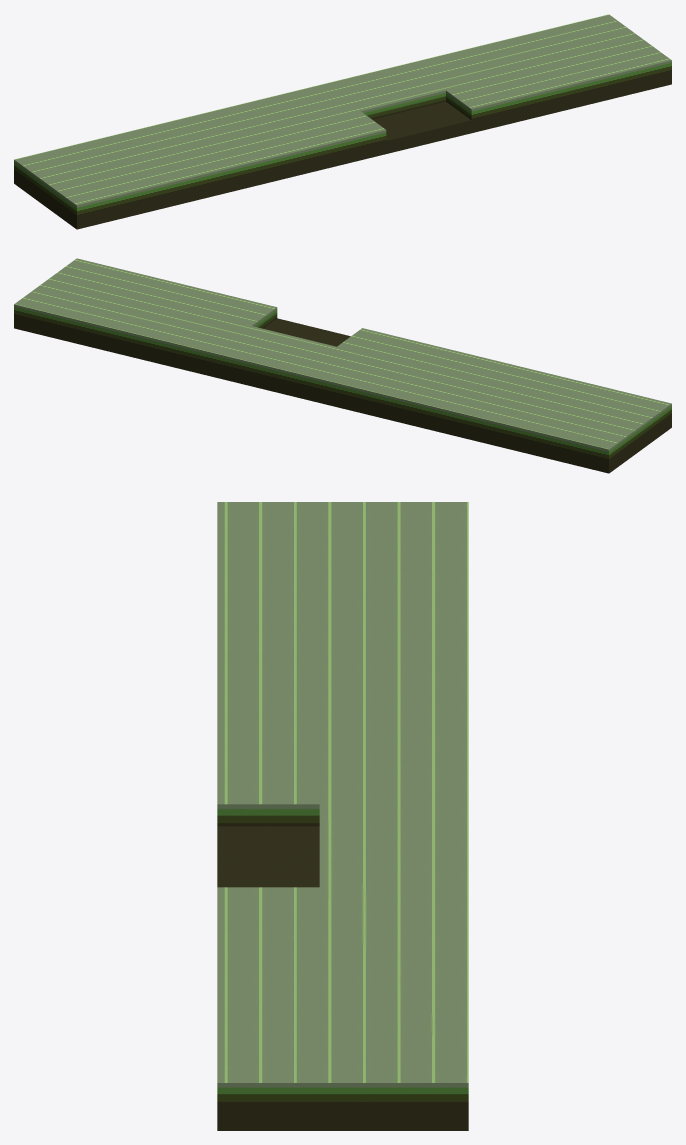
Rendered from puzzle002_floor_fbx.fbx.
The picture shows the model from 3 angles, top to bottom: view 1: azimuth 30°, elevation 25°; view 2: azimuth 150°, elevation 25°; view 3: azimuth 270°, elevation 25°; orthographic projection. The views are drawn at different scales.
Visible parts, largest first — view 1: puzzle002_floor; view 2: puzzle002_floor; view 3: puzzle002_floor.
Part boxes in pixels (x1=…): puzzle002_floor: x1=14, y1=14, x2=671, y2=229; puzzle002_floor: x1=14, y1=258, x2=671, y2=473; puzzle002_floor: x1=217, y1=502, x2=468, y2=1130.
Bounding box in the file's own units: 1035 × 40 × 189.
